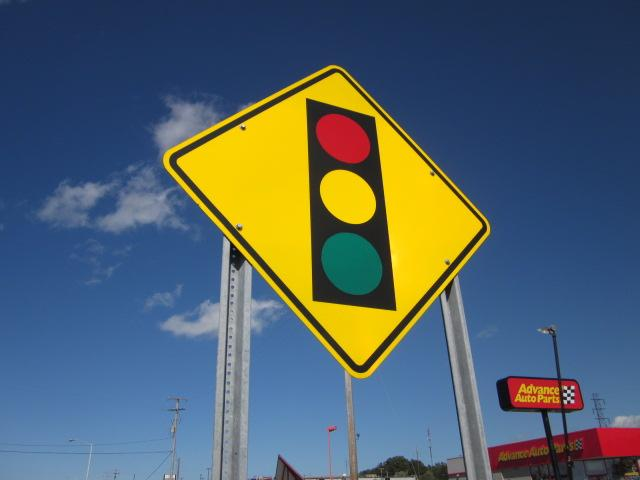warning: (162, 64, 492, 373)
